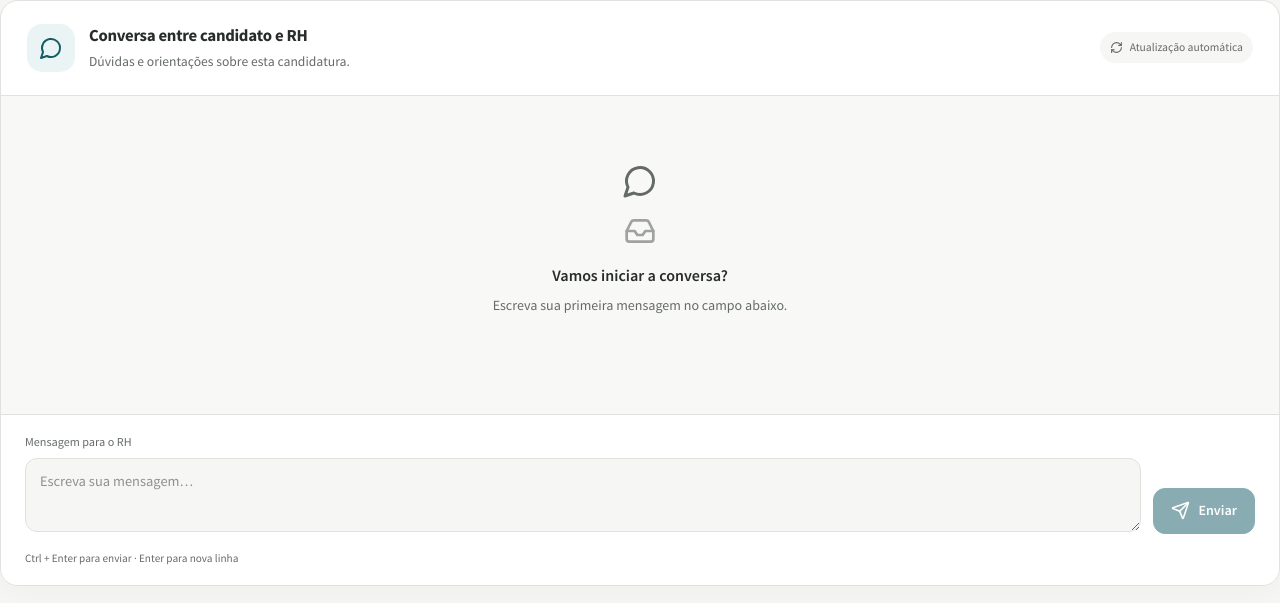
Test: recebe novas mensagens automaticamente sem perder o rascunho
This screenshot has width=1280, height=603.
Expected: the heading "Vamos iniciar a conversa?" is shown, [552,265,728,285]
Type "Rascunho ainda não enviado" into the text box labelled "Mensagem para o RH" at (583, 495), box [25,458,1140,532]
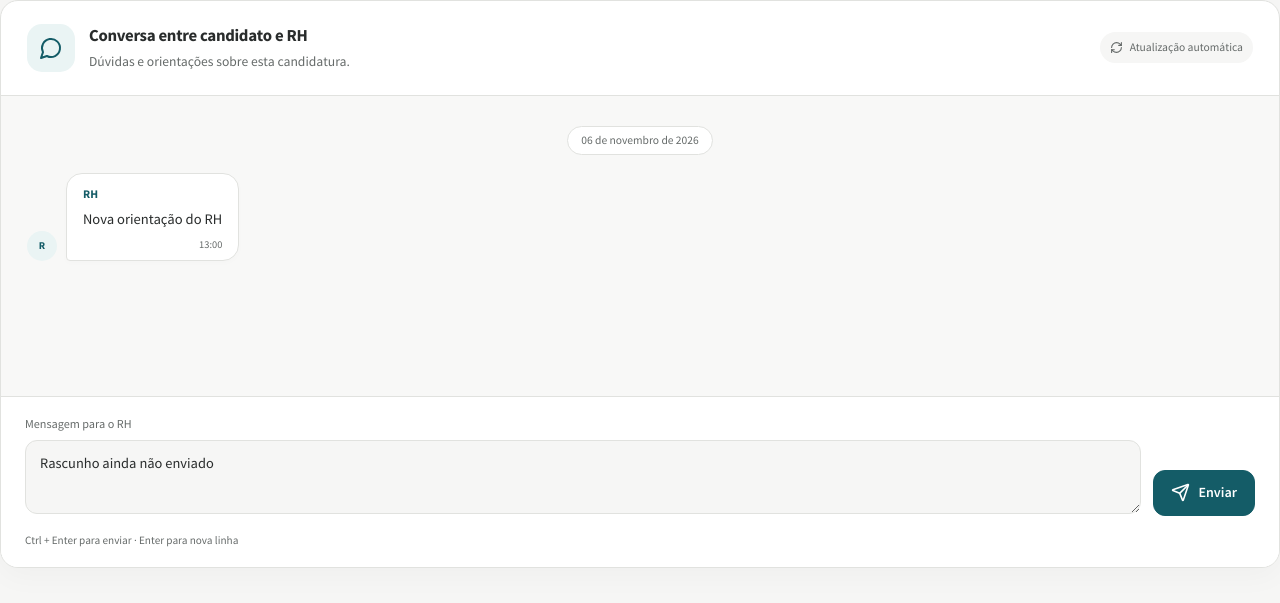
Expected: the text "Nova orientação do RH" is shown, [83,208,222,232]
